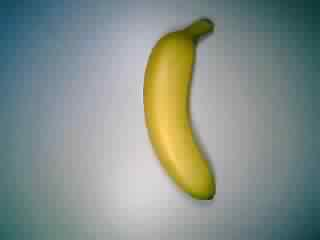banana: (141, 16, 228, 201)
